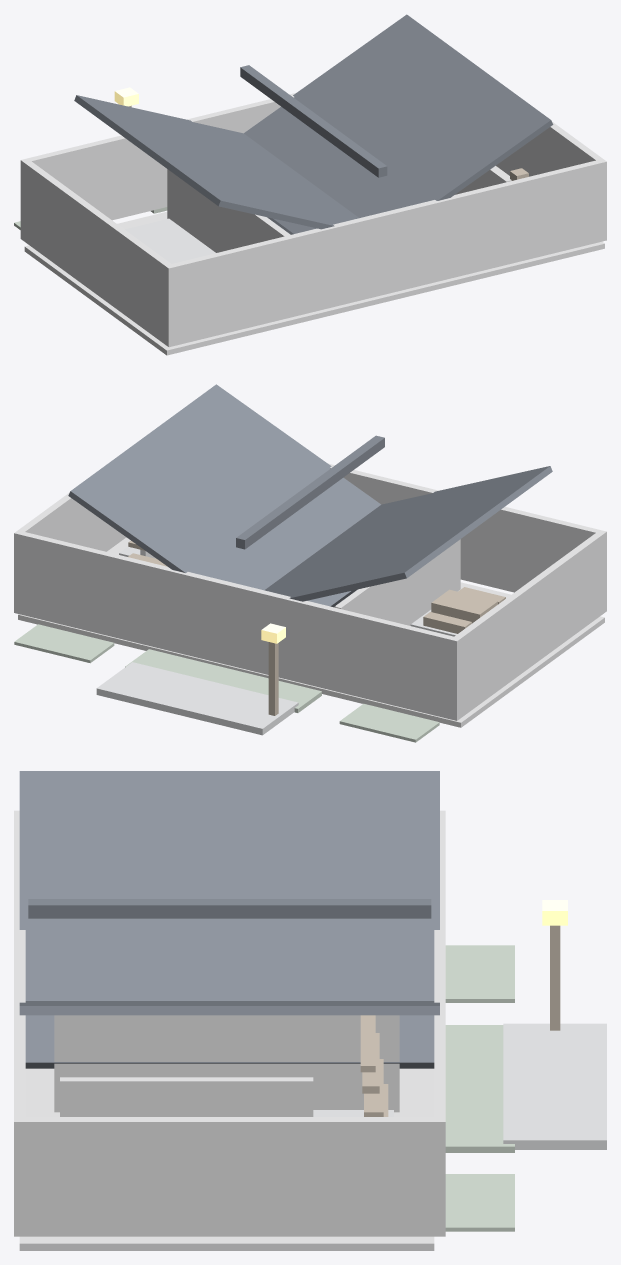
File: smart-house.gltf
3 renders of one model, top to bottom at view 1: azimuth 30°, elevation 25°; view 2: azimuth 150°, elevation 25°; view 3: azimuth 270°, elevation 25°, orthographic. The views are drawn at different scales.
Parts seen in each view (by area): view 1: BackWall, RoofRight, RoofLeft, LeftWall, FrontWall, Floor, InnerWallA, RightWall, RoofRidge, LivingRoom, InnerWallC; view 2: FrontWall, RoofRight, RoofLeft, LeftWall, BackWall, ParkingArea, InnerWallA, Floor, FrontDeck, RightWall, RoofRidge, GardenLeft (+4 smaller); view 3: RoofLeft, RightWall, InnerWallB, ParkingArea, InnerWallC, Floor, RoofRidge, FrontDeck, RoofRight, FrontWall, BackWall, GardenLeft (+5 smaller).
Part boxes in pixels (left/top/right/bottom): BackWall: left=165, top=159, right=606, bottom=347; RoofRight: left=244, top=14, right=553, bottom=234; RoofLeft: left=74, top=95, right=358, bottom=229; LeftWall: left=24, top=161, right=170, bottom=344; FrontWall: left=20, top=92, right=296, bottom=241; Floor: left=24, top=166, right=604, bottom=355; InnerWallA: left=167, top=169, right=289, bottom=252; RightWall: left=496, top=121, right=602, bottom=176; RoofRidge: left=240, top=65, right=387, bottom=177; LivingRoom: left=125, top=218, right=215, bottom=263; InnerWallC: left=455, top=167, right=511, bottom=194; FrontWall: left=14, top=530, right=460, bottom=720; RoofRight: left=68, top=384, right=380, bottom=607; RoofLeft: left=264, top=466, right=552, bottom=601; LeftWall: left=454, top=533, right=602, bottom=717; BackWall: left=328, top=463, right=606, bottom=613; ParkingArea: left=96, top=662, right=298, bottom=735; InnerWallA: left=335, top=539, right=460, bottom=625; Floor: left=18, top=537, right=604, bottom=727; FrontDeck: left=125, top=649, right=321, bottom=712; RightWall: left=18, top=493, right=126, bottom=551; RoofRidge: left=236, top=435, right=384, bottom=549; GardenLeft: left=339, top=703, right=439, bottom=742; RoofLeft: left=19, top=771, right=439, bottom=1068; RightWall: left=25, top=1117, right=434, bottom=1236; InnerWallB: left=54, top=1015, right=399, bottom=1112; ParkingArea: left=503, top=1023, right=606, bottom=1149; InnerWallC: left=60, top=1077, right=313, bottom=1116; Floor: left=19, top=1068, right=434, bottom=1250; RoofRidge: left=28, top=899, right=431, bottom=918; FrontDeck: left=445, top=1025, right=514, bottom=1152; RoofRight: left=19, top=1001, right=439, bottom=1015; FrontWall: left=434, top=810, right=445, bottom=1236; BackWall: left=14, top=810, right=25, bottom=1236; GardenLeft: left=445, top=945, right=514, bottom=1002.
Bounding box in the file's own units: 12.8 × 3.96 × 10.3.
